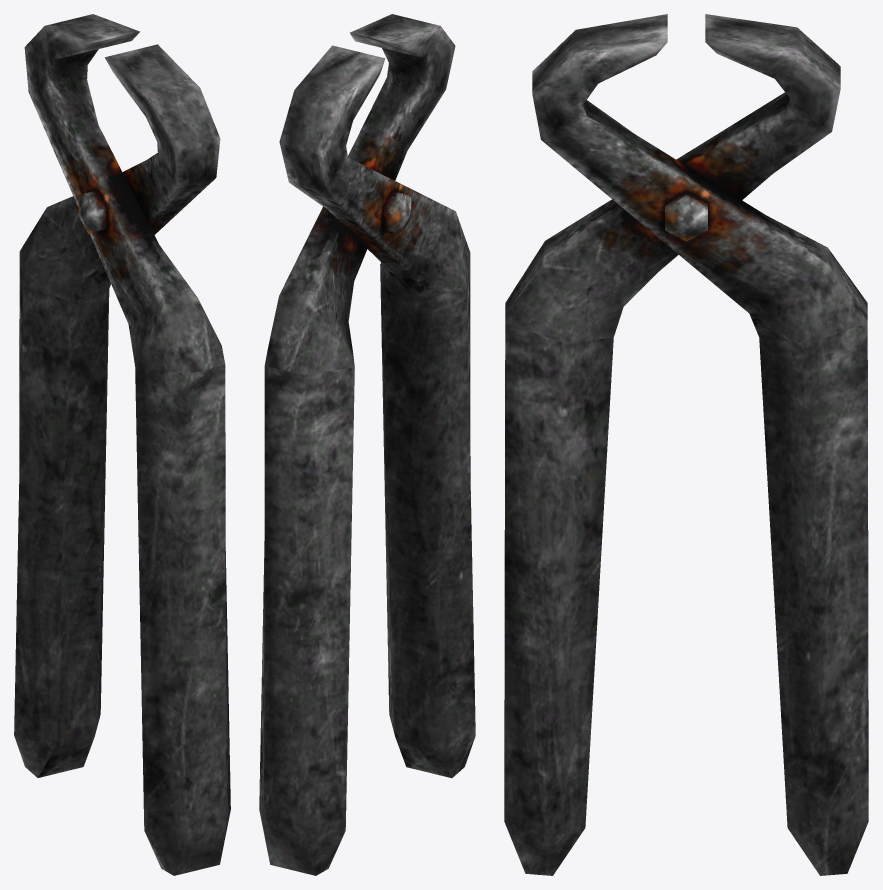
The model's file is pincers.dae.
The picture shows the model from 3 angles, left to right: view 1: azimuth 30°, elevation 25°; view 2: azimuth 150°, elevation 25°; view 3: azimuth 270°, elevation 25°; orthographic projection. The views are drawn at different scales.
Parts seen in each view (by area): view 1: pincers_mesh; view 2: pincers_mesh; view 3: pincers_mesh.
Part boxes in pixels (box(x1,y1,x2,y2)): pincers_mesh: box(14, 14, 230, 875); pincers_mesh: box(259, 14, 475, 875); pincers_mesh: box(504, 14, 868, 875).
Bounding box in the file's own units: 0.0432 × 0.3686 × 0.1456.
